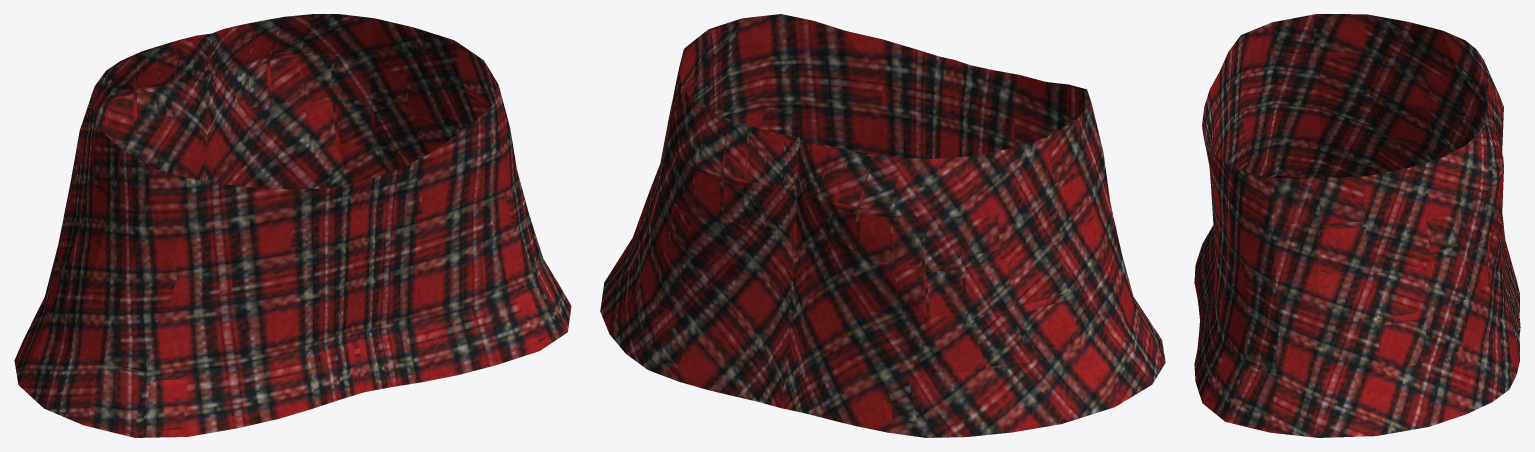
Rendered from mhw_mtknife_low_mini_skirt.glb.
3 views of the same model, side by side, from view 1: azimuth 30°, elevation 25°; view 2: azimuth 150°, elevation 25°; view 3: azimuth 270°, elevation 25° (orthographic). The views are drawn at different scales.
Visible parts, largest first — view 1: mhw_mtknife_low_mini_skirt; view 2: mhw_mtknife_low_mini_skirt; view 3: mhw_mtknife_low_mini_skirt.
Part boxes in pixels (x1=…): mhw_mtknife_low_mini_skirt: x1=14, y1=14, x2=571, y2=437; mhw_mtknife_low_mini_skirt: x1=600, y1=14, x2=1165, y2=437; mhw_mtknife_low_mini_skirt: x1=1194, y1=14, x2=1520, y2=437.
Size of the model in its own units: 0.4687 by 0.2208 by 0.277.
Materials: 1 (1 with a texture image).
